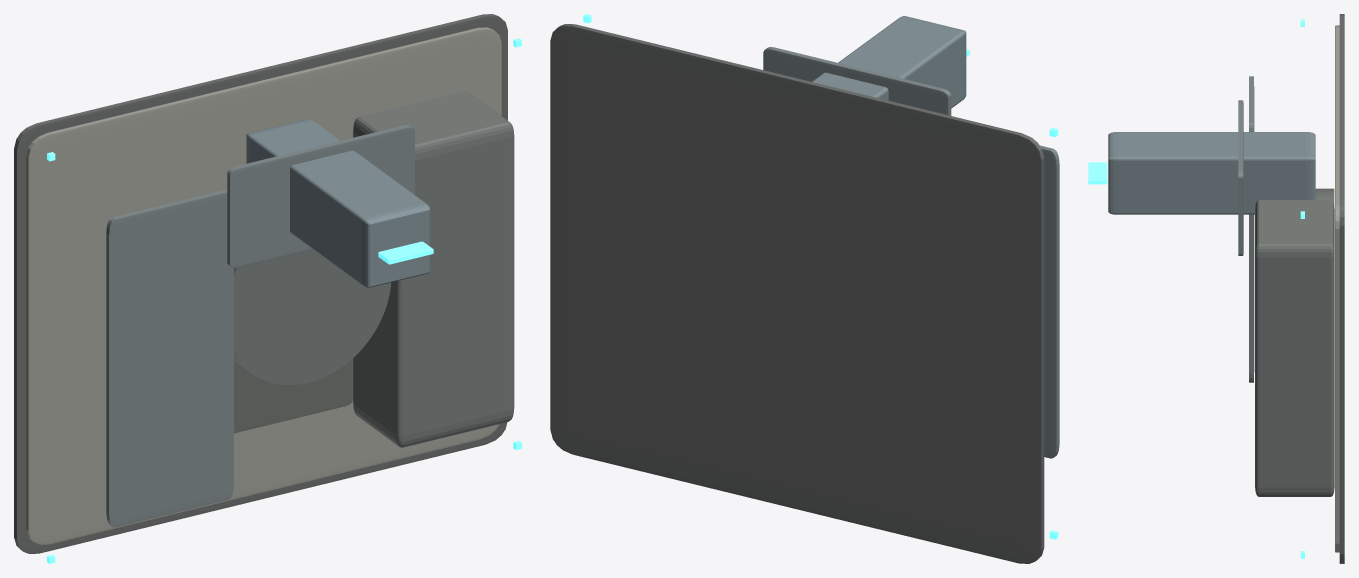
File: b-27-academy-lod2.glb
3 views of the same model, side by side, from view 1: azimuth 30°, elevation 25°; view 2: azimuth 150°, elevation 25°; view 3: azimuth 270°, elevation 25° (orthographic). The views are drawn at different scales.
Parts seen in each view (by area): view 1: foundation_inner_pad, academy_east_main_hall, academy_west_roof, academy_tower, academy_dome_hall, foundation, academy_north_roof, primary_courtyard, academy_beacon_array_0; view 2: foundation, academy_tower, academy_west_roof, academy_north_roof; view 3: academy_east_main_hall, academy_tower, foundation, foundation_inner_pad, academy_west_roof, academy_north_roof, academy_beacon_array_0.
Boxes of the visible parts, x1,y1,x2,y2 form: foundation_inner_pad: (26, 27, 501, 544); academy_east_main_hall: (353, 90, 514, 447); academy_west_roof: (106, 190, 233, 527); academy_tower: (246, 119, 430, 287); academy_dome_hall: (234, 249, 390, 384); foundation: (14, 14, 507, 553); academy_north_roof: (227, 125, 414, 268); primary_courtyard: (234, 358, 352, 433); academy_beacon_array_0: (378, 241, 433, 264); foundation: (550, 24, 1044, 563); academy_tower: (812, 16, 966, 108); academy_west_roof: (1040, 145, 1059, 458); academy_north_roof: (763, 47, 951, 115); academy_east_main_hall: (1255, 200, 1334, 496); academy_tower: (1108, 132, 1315, 214); foundation: (1339, 14, 1344, 563); foundation_inner_pad: (1335, 25, 1339, 552); academy_west_roof: (1249, 76, 1254, 382); academy_north_roof: (1238, 100, 1243, 255); academy_beacon_array_0: (1088, 162, 1107, 184).
Size of what is drawn, in the model's own units: 18 by 15 by 9.65.
